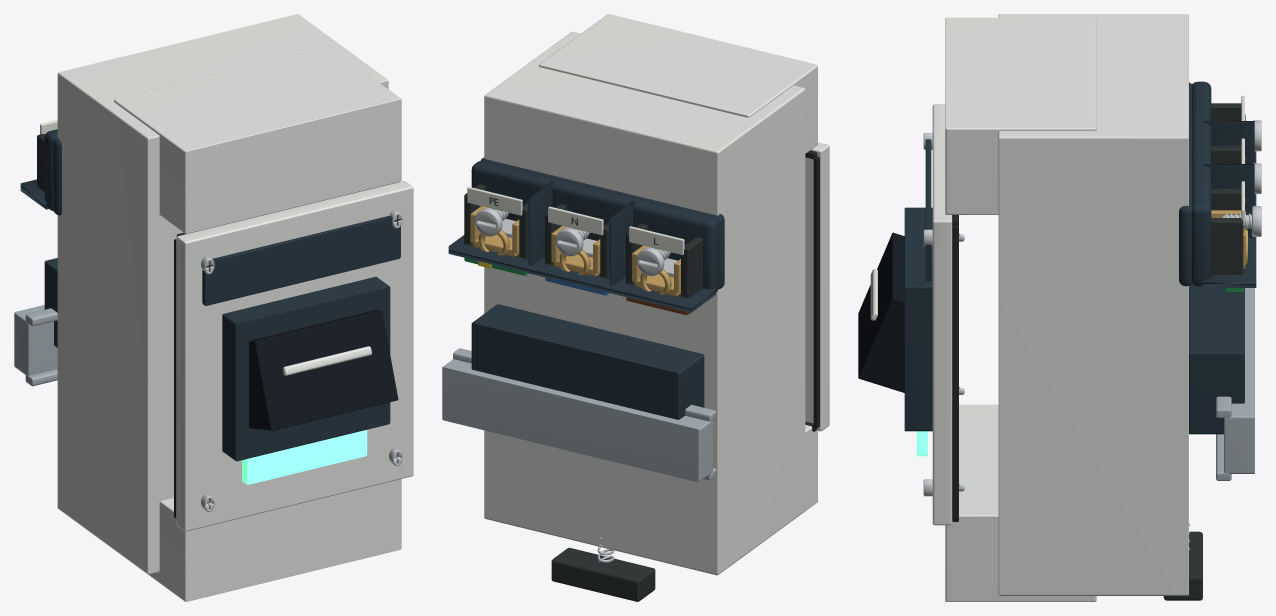
Rendered from spd_default.glb.
3 renders of one model, left to right at view 1: azimuth 30°, elevation 25°; view 2: azimuth 150°, elevation 25°; view 3: azimuth 270°, elevation 25°, orthographic. The views are drawn at different scales.
Parts seen in each view (by area): view 1: part:body · Original 7dbee62c, part:cover, motion:toggle, part:body.001, part:mounting · Original 2a8198d3, part:terminals · Original a463fd81, detail:enclosure-gasket-and-fixings · Detail rubber gasket, part:body, detail:enclosure-gasket-and-fixings · Detail zinc plated fix; view 2: part:body · Original 7dbee62c, part:mounting · Original 2a8198d3, part:body, part:terminals · Original a463fd81, part:cover, DIN spring slider, detail:enclosure-gasket-and-fixings · Detail rubber gasket, detail:terminal-clamp:L · Detail moulded engineering polymer, detail:terminal-clamp:N · Detail machined brass, detail:terminal-clamp:PE · Detail machined brass, detail:terminal-clamp:L · Detail machined brass, detail:terminal-clamp:PE · Detail moulded engineering polyme (+7 smaller); view 3: part:body · Original 7dbee62c, part:cover, part:terminals · Original a463fd81, part:body, part:body.001, motion:toggle, part:mounting · Original 2a8198d3, detail:terminal-clamp:PE · Detail moulded engineering polyme, detail:enclosure-gasket-and-fixings · Detail rubber gasket, DIN spring slider, detail:enclosure-gasket-and-fixings · Detail zinc plated fix, detail:terminal-clamp:L · Detail moulded engineering polymer (+1 smaller).
Boxes of the visible parts, x1=… form: part:body · Original 7dbee62c: x1=57, y1=14, x2=401, y2=601; part:cover: x1=176, y1=181, x2=413, y2=531; motion:toggle: x1=249, y1=310, x2=398, y2=430; part:body.001: x1=222, y1=276, x2=390, y2=461; part:mounting · Original 2a8198d3: x1=14, y1=305, x2=57, y2=386; part:terminals · Original a463fd81: x1=20, y1=129, x2=61, y2=215; detail:enclosure-gasket-and-fixings · Detail rubber gasket: x1=174, y1=183, x2=394, y2=518; part:body: x1=44, y1=258, x2=57, y2=347; detail:enclosure-gasket-and-fixings · Detail zinc plated fix: x1=201, y1=210, x2=402, y2=511; part:body · Original 7dbee62c: x1=484, y1=14, x2=817, y2=575; part:mounting · Original 2a8198d3: x1=442, y1=348, x2=716, y2=482; part:body: x1=471, y1=304, x2=704, y2=419; part:terminals · Original a463fd81: x1=448, y1=157, x2=724, y2=312; part:cover: x1=805, y1=142, x2=829, y2=431; DIN spring slider: x1=551, y1=547, x2=655, y2=601; detail:enclosure-gasket-and-fixings · Detail rubber gasket: x1=805, y1=150, x2=819, y2=431; detail:terminal-clamp:L · Detail moulded engineering polymer: x1=626, y1=223, x2=702, y2=298; detail:terminal-clamp:N · Detail machined brass: x1=551, y1=226, x2=600, y2=276; detail:terminal-clamp:PE · Detail machined brass: x1=470, y1=206, x2=519, y2=256; detail:terminal-clamp:L · Detail machined brass: x1=632, y1=245, x2=680, y2=296; detail:terminal-clamp:PE · Detail moulded engineering polyme: x1=464, y1=184, x2=527, y2=259; part:body · Original 7dbee62c: x1=945, y1=14, x2=1188, y2=601; part:cover: x1=916, y1=104, x2=952, y2=525; part:terminals · Original a463fd81: x1=1179, y1=81, x2=1256, y2=287; part:body: x1=1189, y1=284, x2=1244, y2=434; part:body.001: x1=904, y1=207, x2=932, y2=431; motion:toggle: x1=858, y1=232, x2=904, y2=392; part:mounting · Original 2a8198d3: x1=1216, y1=288, x2=1254, y2=480; detail:terminal-clamp:PE · Detail moulded engineering polyme: x1=1211, y1=188, x2=1244, y2=274; detail:enclosure-gasket-and-fixings · Detail rubber gasket: x1=952, y1=215, x2=958, y2=521; DIN spring slider: x1=1163, y1=531, x2=1202, y2=600; detail:enclosure-gasket-and-fixings · Detail zinc plated fix: x1=923, y1=133, x2=964, y2=496; detail:terminal-clamp:L · Detail moulded engineering polymer: x1=1211, y1=103, x2=1241, y2=120.
Size of the model in its own units: 0.5415 by 0.9369 by 0.6775.
